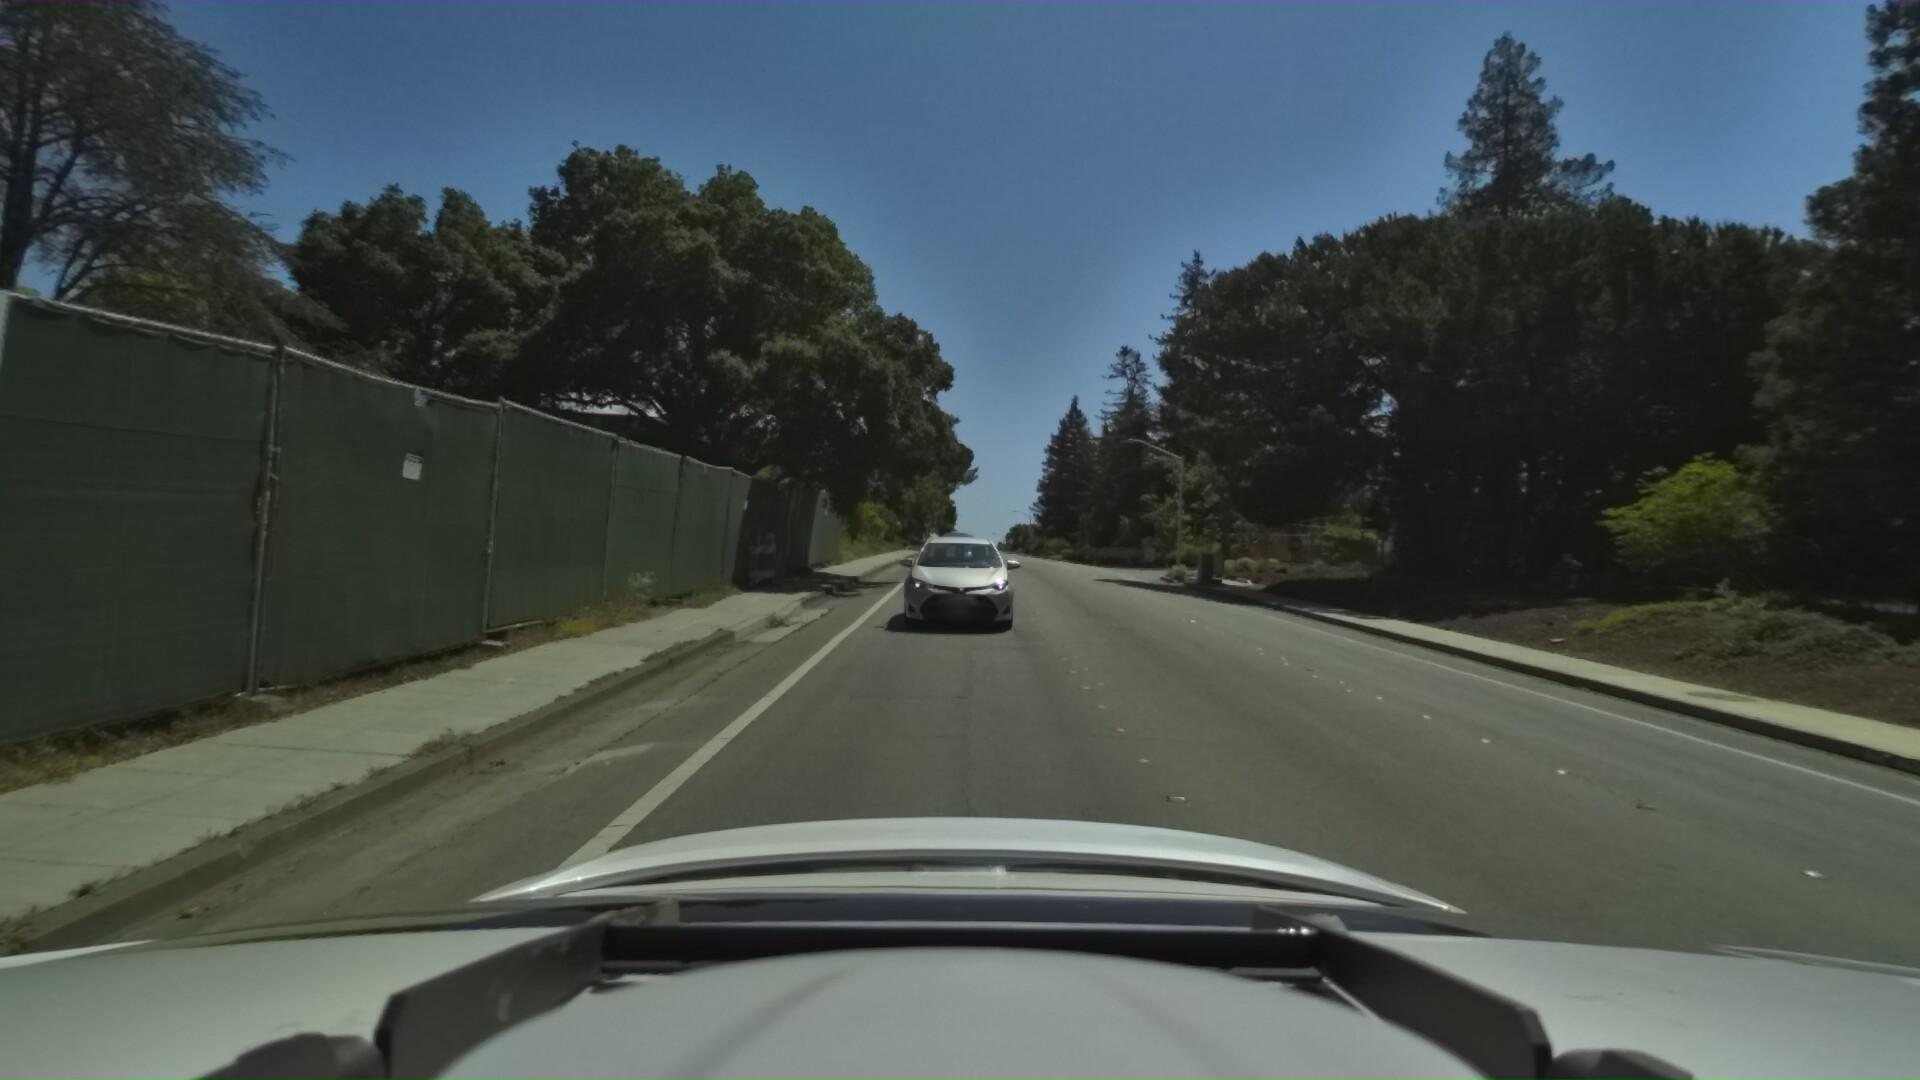car: (886, 509, 1030, 640), (922, 521, 975, 571)
